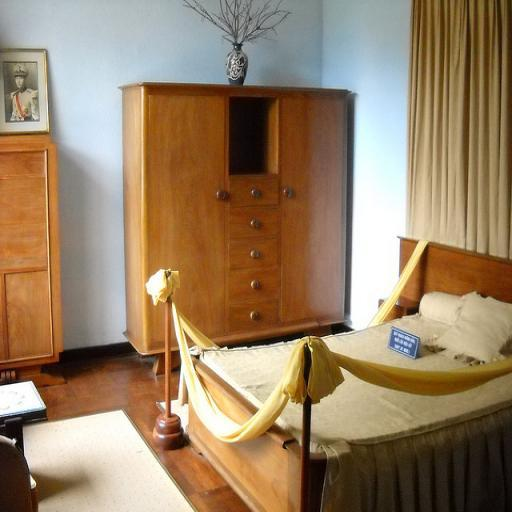bed: (138, 194, 512, 512)
